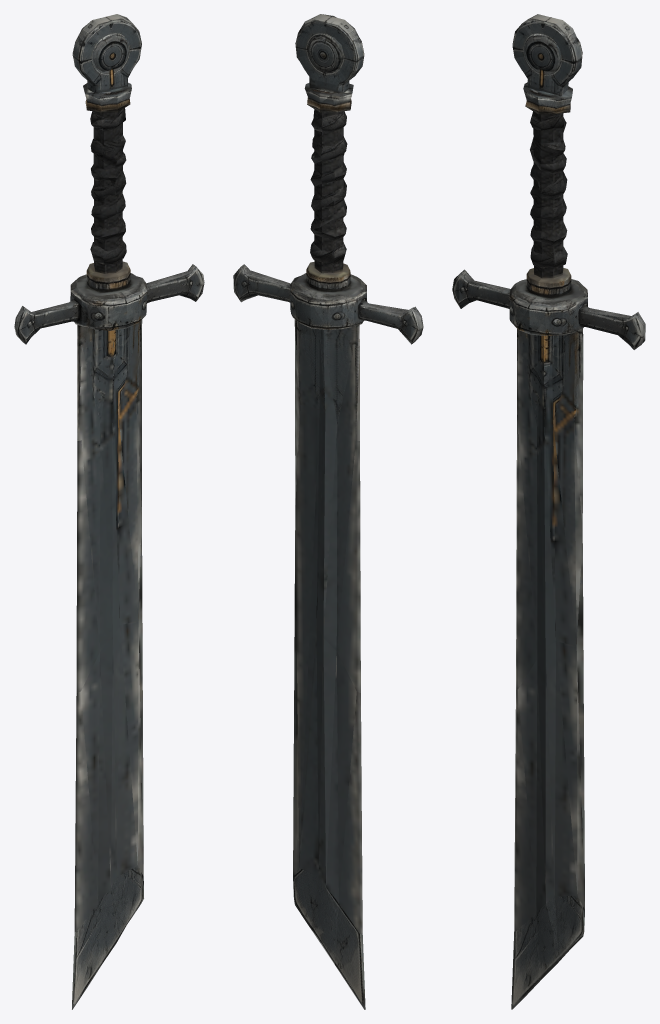
The model's file is Sword_Fleagus.glb.
3 views of the same model, side by side, from view 1: azimuth 30°, elevation 25°; view 2: azimuth 150°, elevation 25°; view 3: azimuth 330°, elevation 25° (orthographic).
Parts seen in each view (by area): view 1: mesh_node; view 2: mesh_node; view 3: mesh_node.
Boxes of the visible parts, x1,y1,x2,y2 form: mesh_node: [14, 14, 204, 1009]; mesh_node: [233, 14, 423, 1009]; mesh_node: [452, 14, 645, 1009].
Bounding box in the file's own units: 0.1997 × 1 × 0.0688.
1 material, 1 textured.
